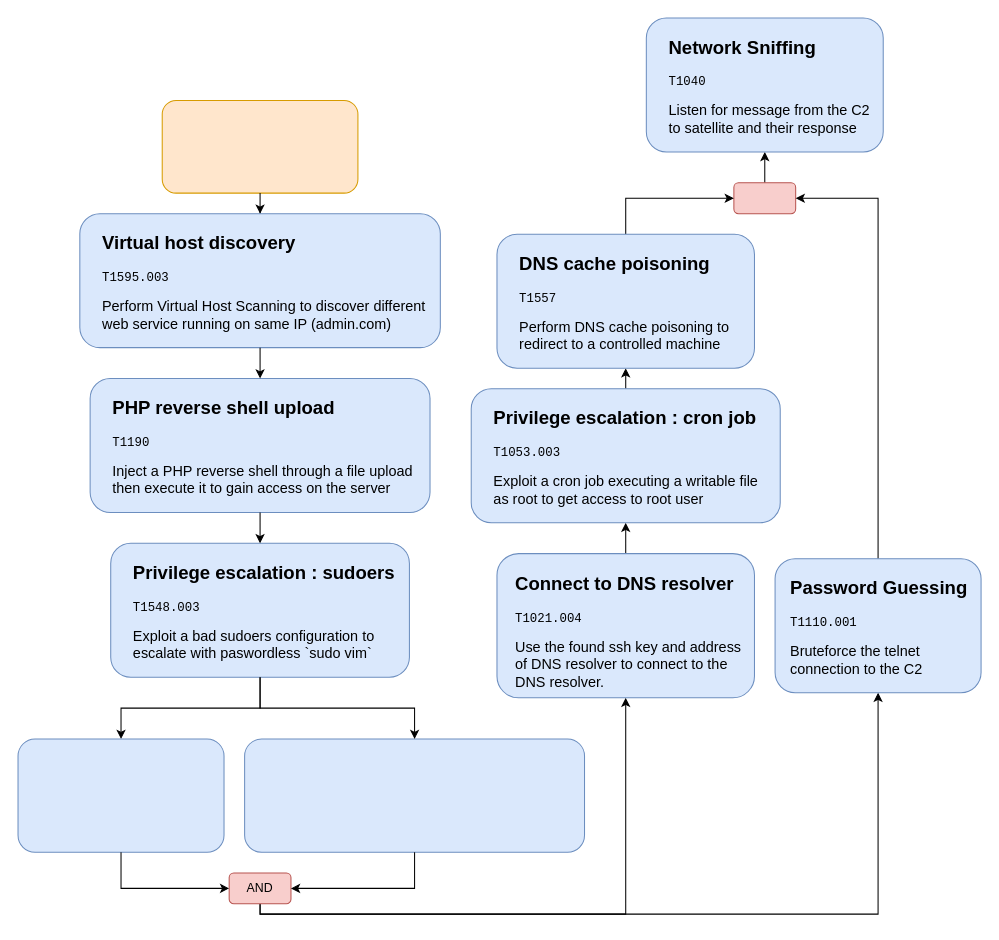
This 999x940 diagram has some shape labels left out. The shapes that lost their labels are listed below. From the top down, each one's centre as x and y in pixels, then its label:
At point (259, 146): "Start page given stellar.com".
At point (764, 198): "OR".
At point (120, 795): "Enumerate network T1016 Find the DNS resolver".
At point (414, 795): "File enumeration T1083 Find an ssh key in directory /home/admin/.ssh".
